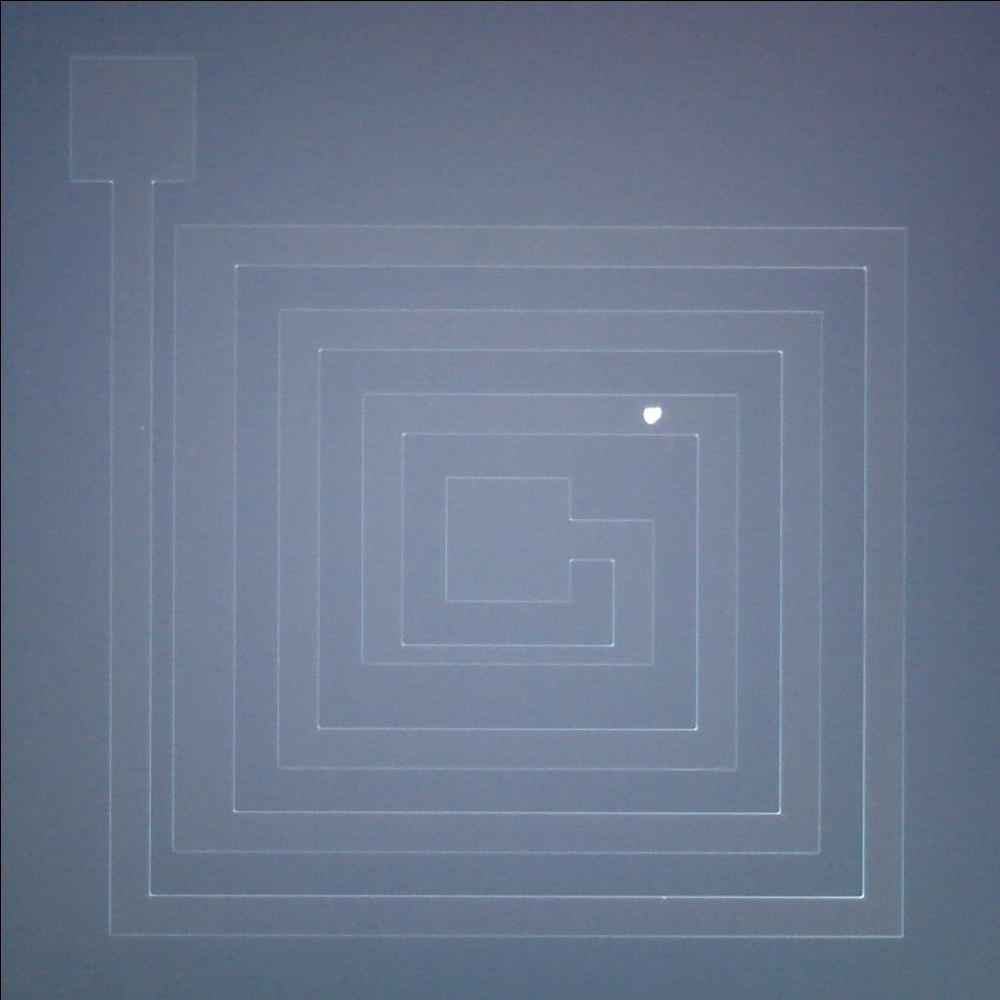fat circuit: (167, 214, 244, 868)
spot: (633, 398, 670, 430)
thin circuit: (352, 629, 667, 676)
